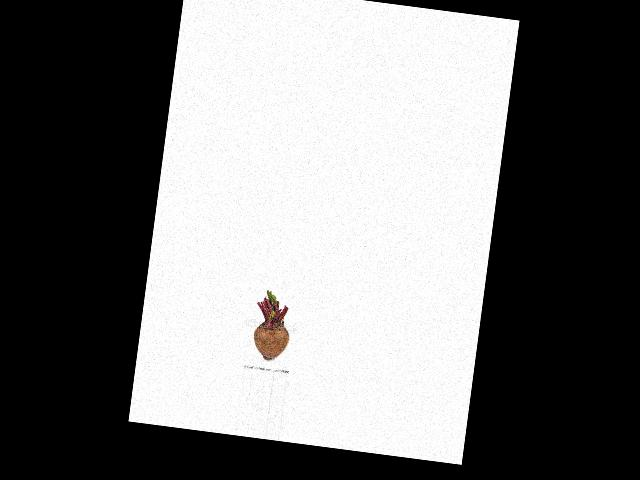beet: (250, 289, 295, 362)
